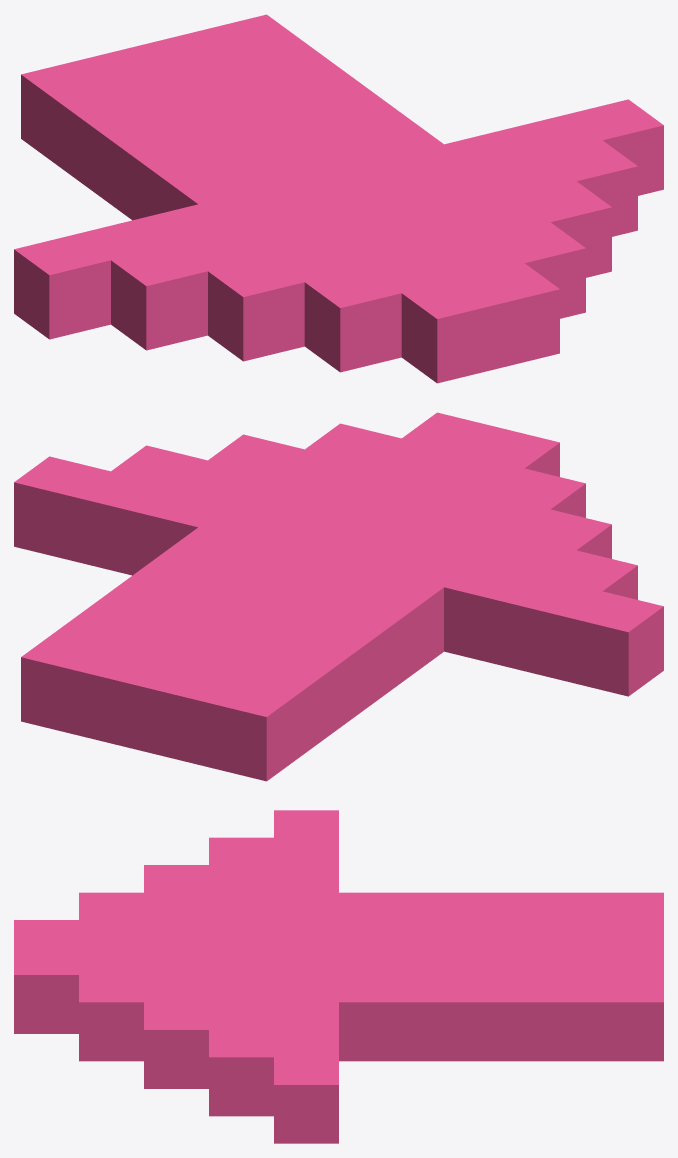
Rendered from targetNavi.obj.
3 renders of one model, top to bottom at view 1: azimuth 30°, elevation 25°; view 2: azimuth 150°, elevation 25°; view 3: azimuth 270°, elevation 25°, orthographic. The views are drawn at different scales.
Size of the model in its own units: 1 by 0.1 by 1.
1 material, 1 textured.
